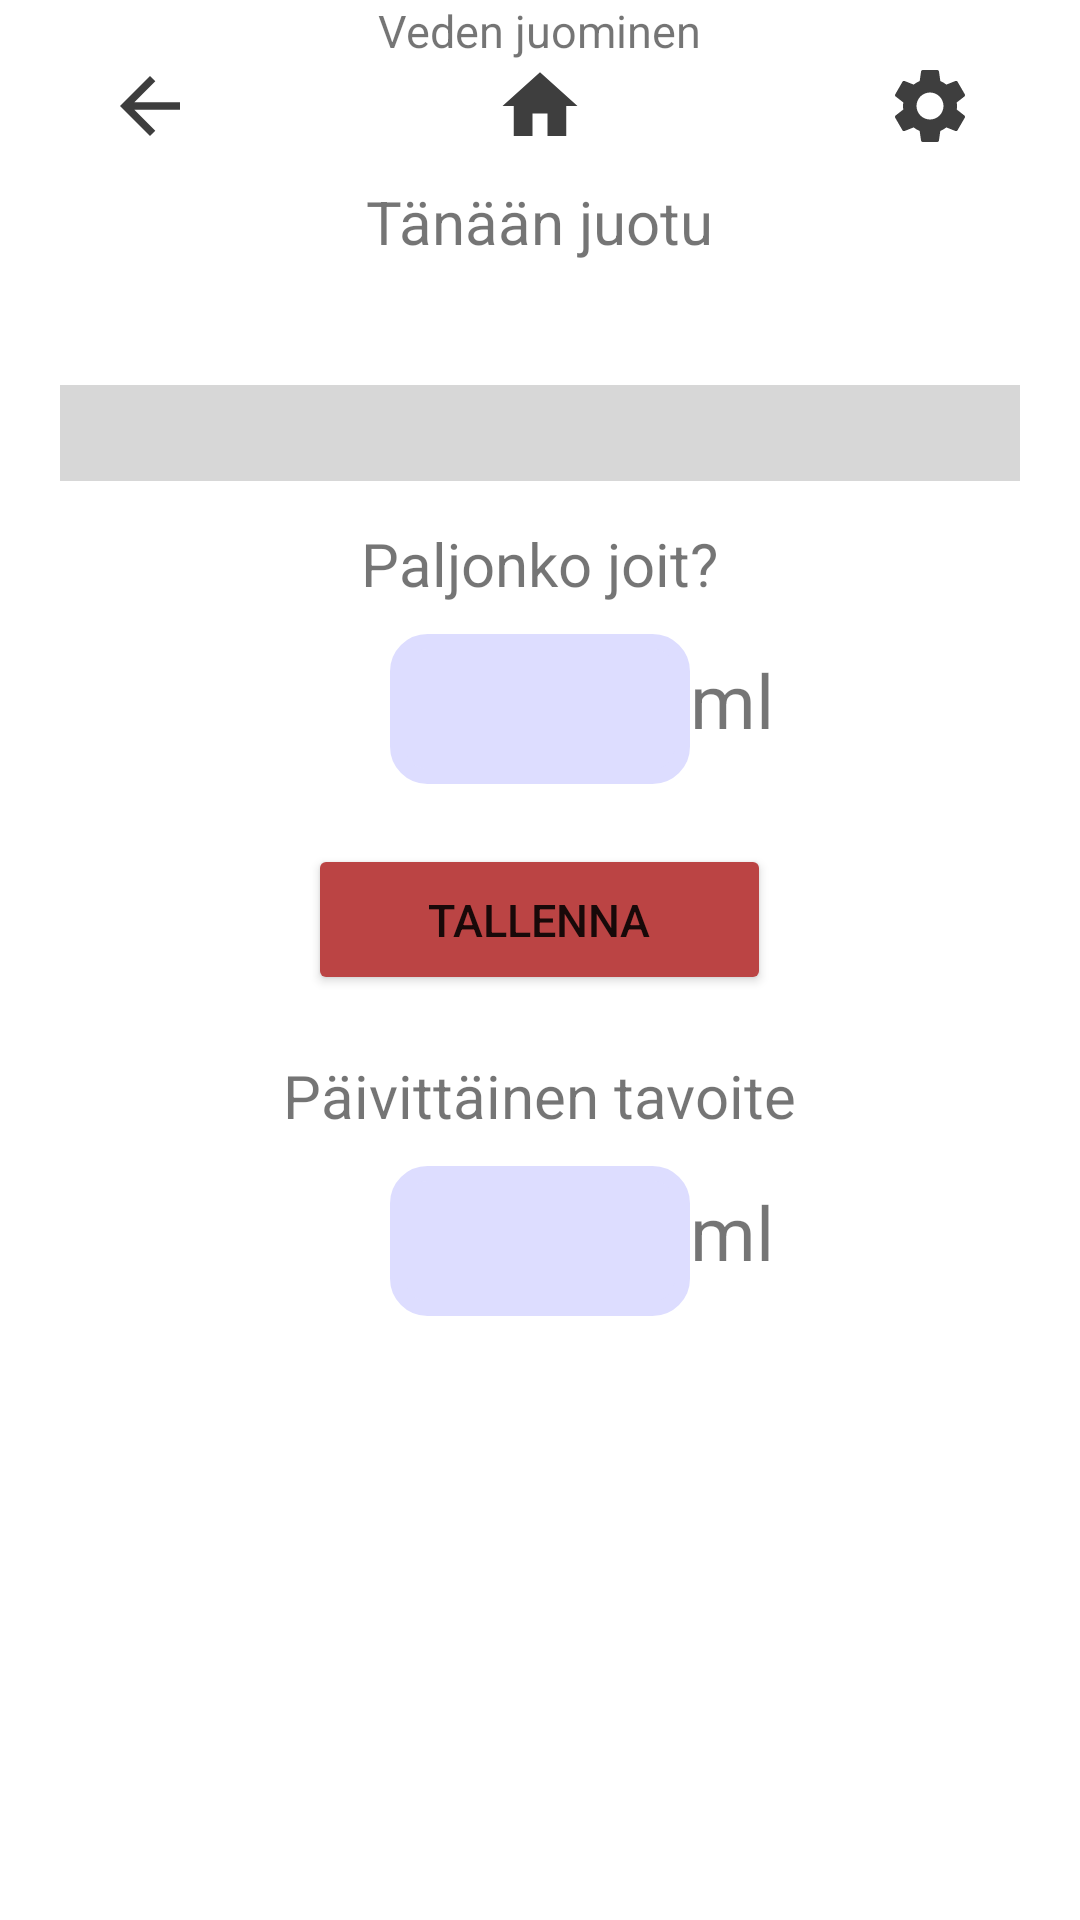

Screen size 1080*1920. Icon name, then its box in pixels as (x1, y1, x2, y2):
Asetukset: (895, 70, 965, 142)
Koti: (503, 72, 577, 136)
Takaisin: (120, 76, 180, 136)
